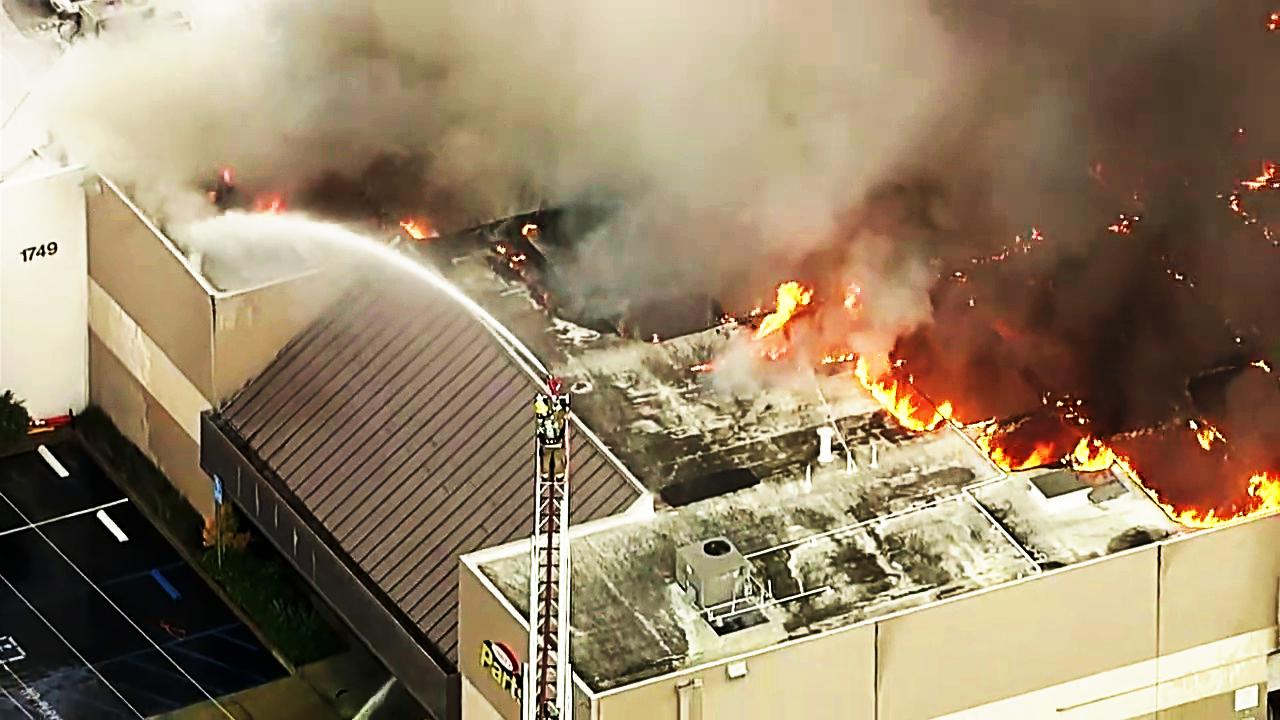smoke: (383, 0, 844, 182)
